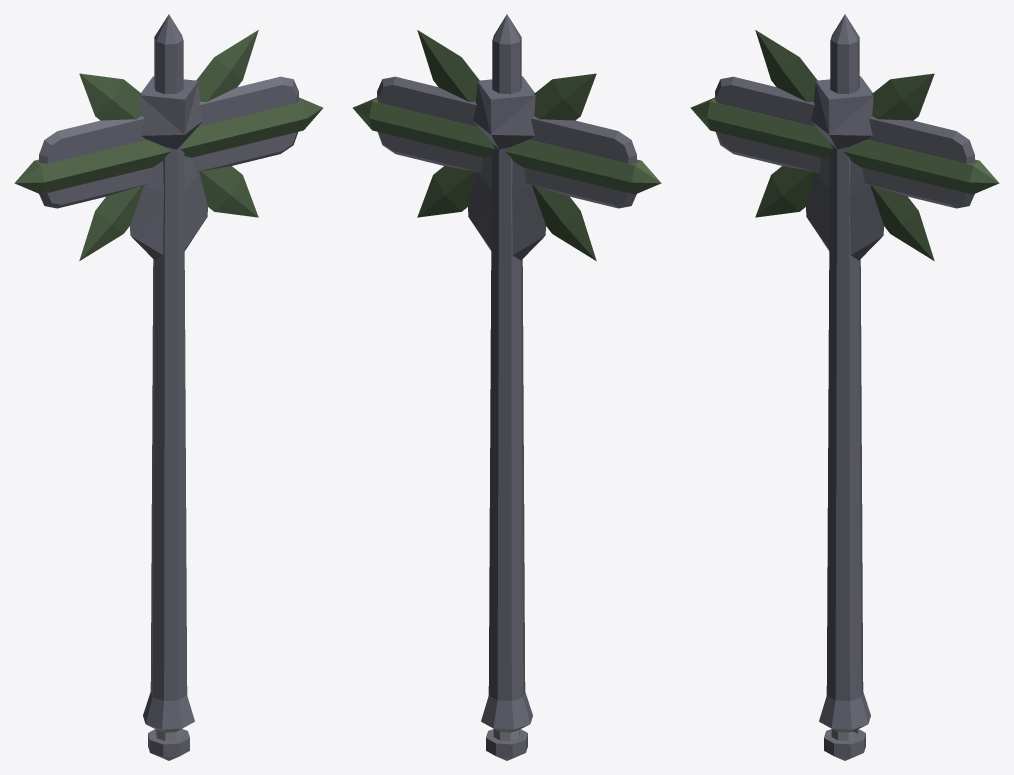
File: _hammer_10.fbx
3 views of the same model, side by side, from view 1: azimuth 30°, elevation 25°; view 2: azimuth 150°, elevation 25°; view 3: azimuth 330°, elevation 25° (orthographic).
Visible parts, largest first — view 1: hammer_10; view 2: hammer_10; view 3: hammer_10.
Boxes of the visible parts, <box> form: hammer_10: <box>14,14,323,760</box>; hammer_10: <box>352,14,661,760</box>; hammer_10: <box>690,14,999,760</box>.
Bounding box in the file's own units: 38.45 × 88.73 × 6.84.
